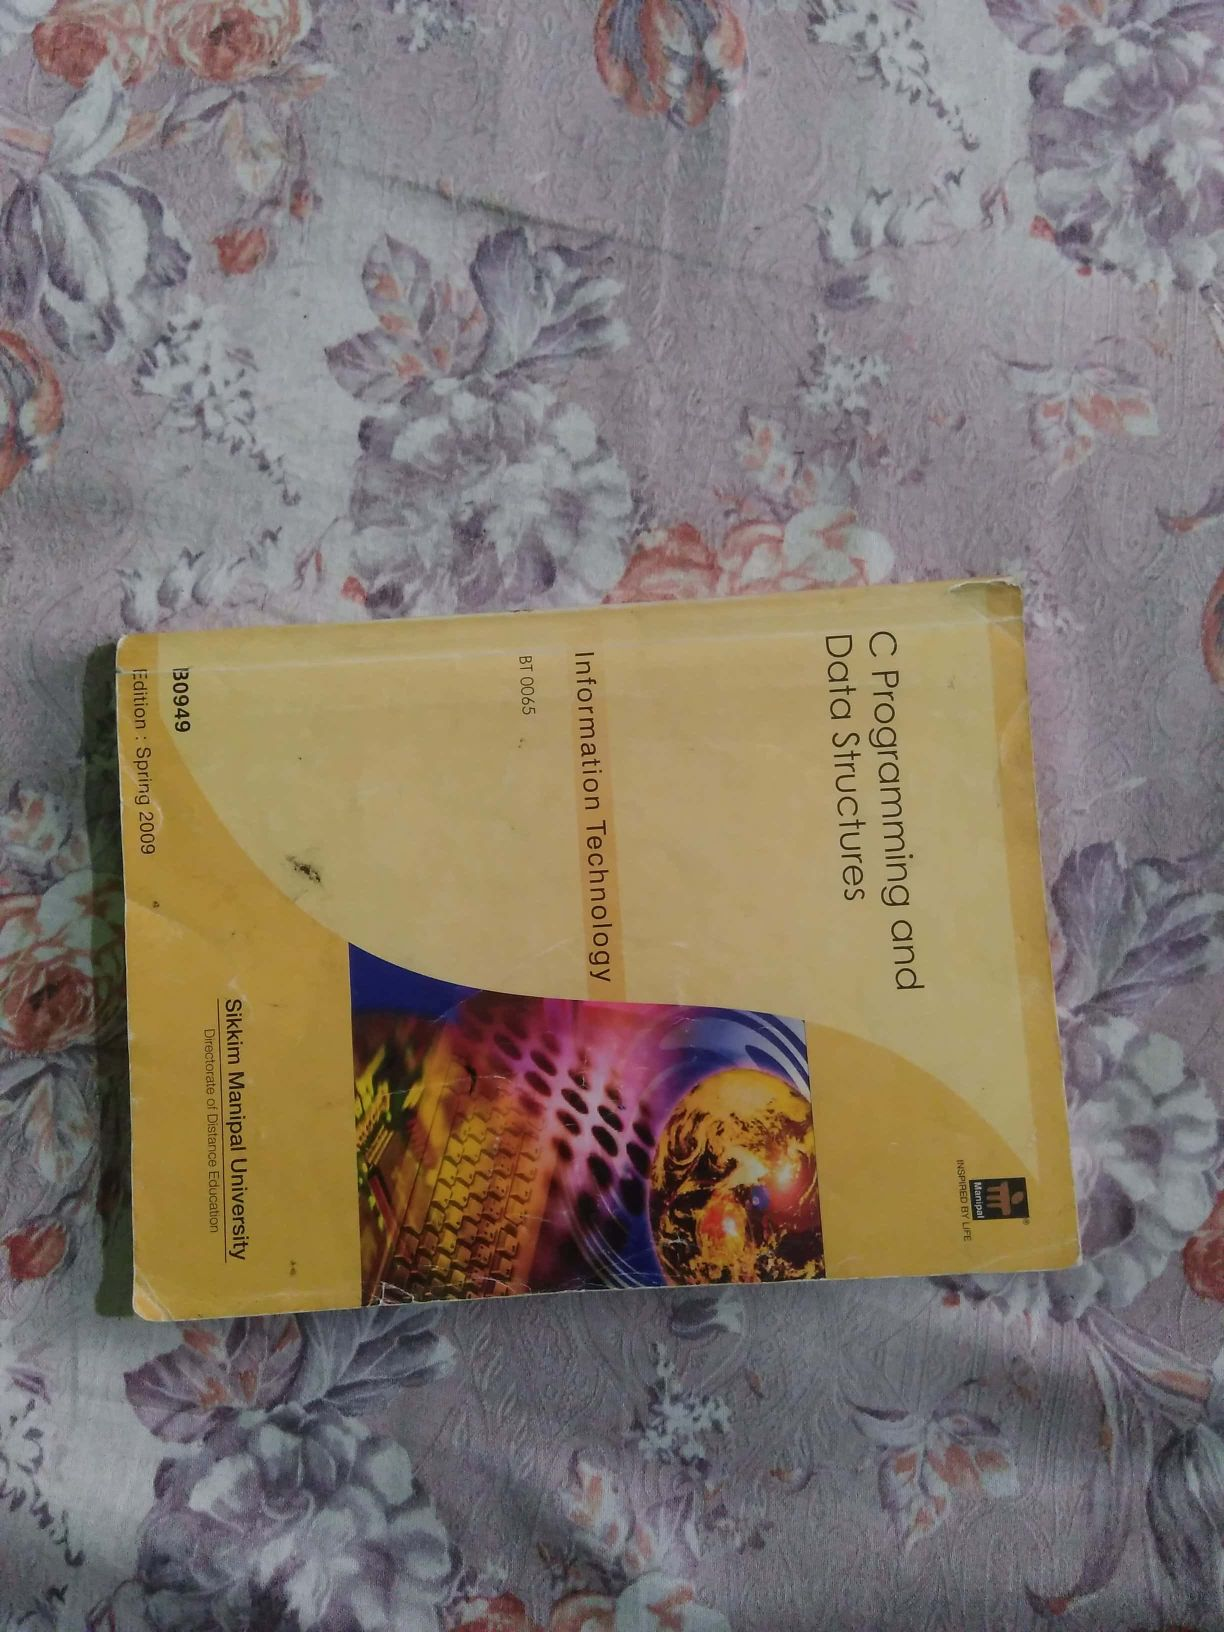clang: (63, 536, 1088, 1356)
